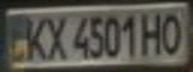0: (103, 10, 124, 58)
1: (118, 9, 142, 57)
4: (66, 10, 90, 60)
5: (87, 10, 109, 60)
H: (136, 7, 172, 56)
K: (18, 10, 51, 63)
O: (157, 7, 190, 56)
X: (42, 10, 69, 62)
